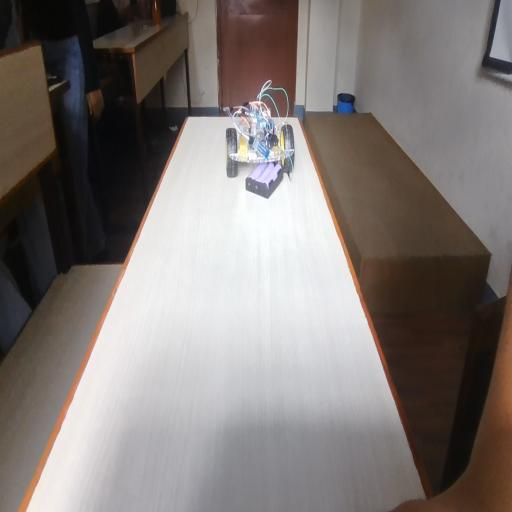car: (242, 100, 310, 194)
